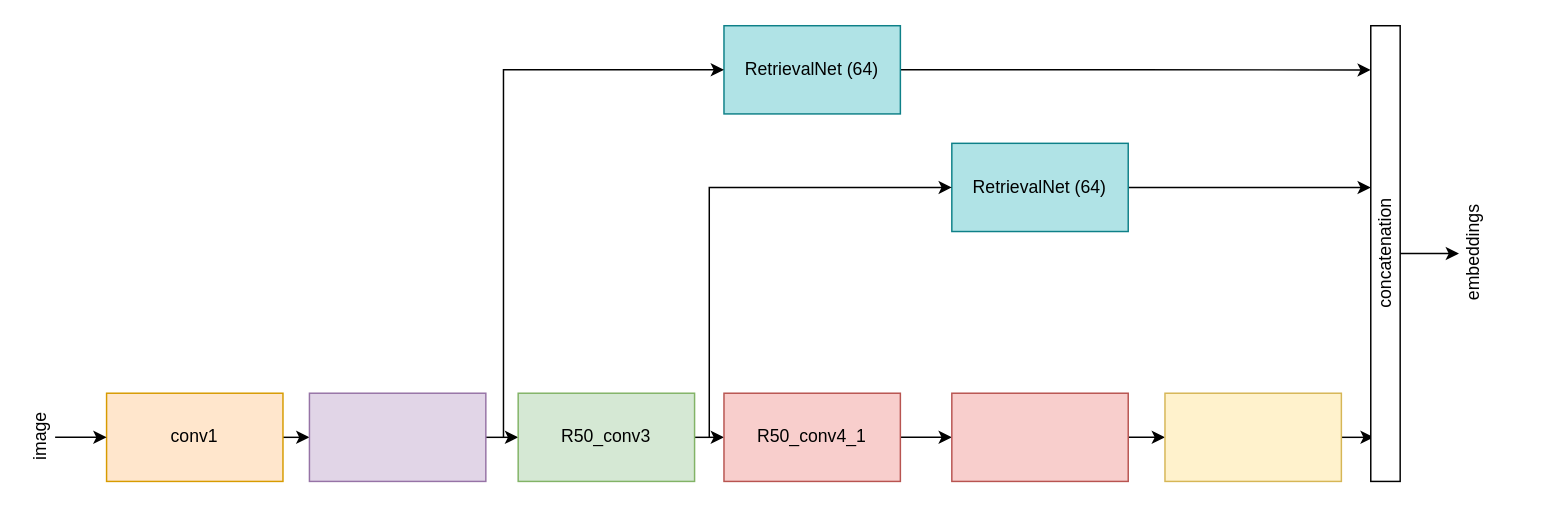
The diagram is 1557 pixels wide and 507 high, and some of its shapes have lost their labels. The centre of each missing label's shape, as x and y in pixels:
"Classification Branch (128)" goes at [1252,436].
"R50_conv2" goes at [397,436].
"R50_conv4_2-3-4-5-6" goes at [1039,436].
